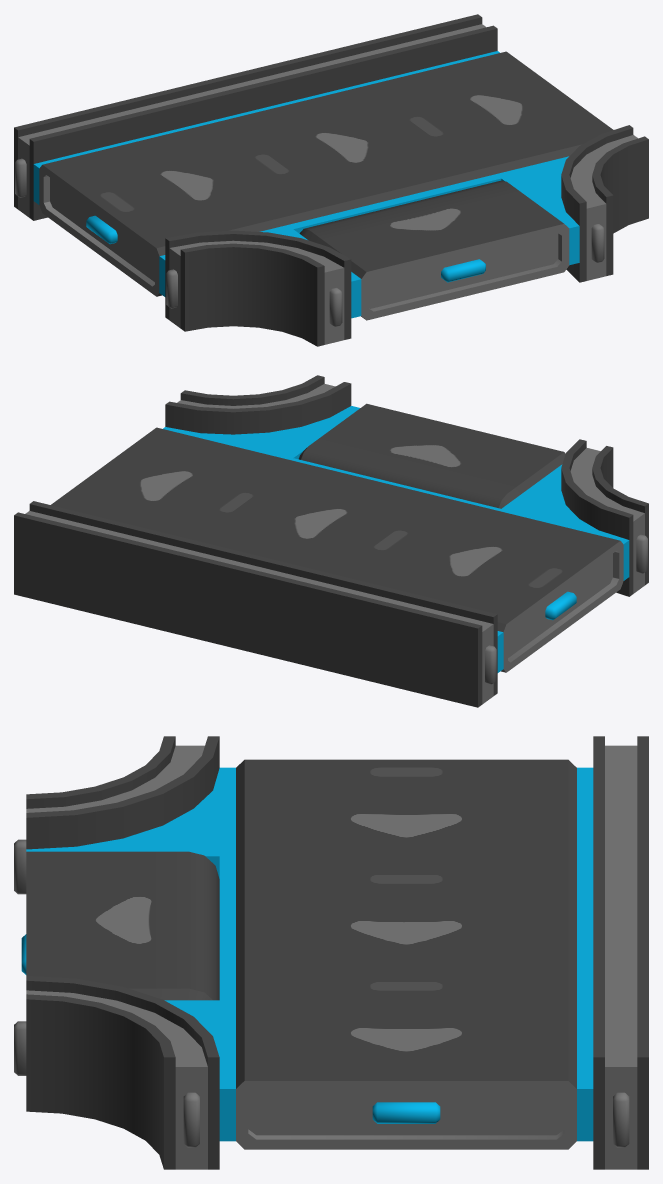
Rendered from Conveyor_Belt_3_Way_01B.fbx.
The picture shows the model from 3 angles, top to bottom: view 1: azimuth 30°, elevation 25°; view 2: azimuth 150°, elevation 25°; view 3: azimuth 270°, elevation 25°; orthographic projection. The views are drawn at different scales.
Visible parts, largest first — view 1: Conveyor_Belt_3_Way_01B; view 2: Conveyor_Belt_3_Way_01B; view 3: Conveyor_Belt_3_Way_01B.
Part boxes in pixels (left/top/right/bottom): Conveyor_Belt_3_Way_01B: left=14, top=14, right=648, bottom=346; Conveyor_Belt_3_Way_01B: left=14, top=375, right=648, bottom=707; Conveyor_Belt_3_Way_01B: left=14, top=736, right=648, bottom=1169.
Bounding box in the file's own units: 207 × 32.6 × 167.
